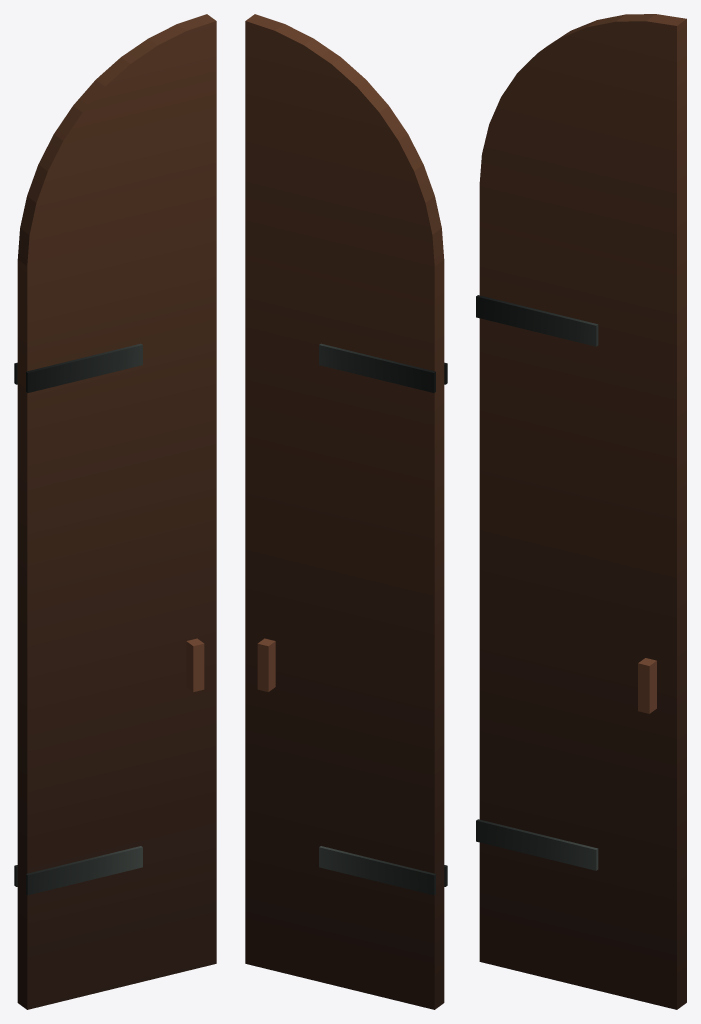
The model's file is SM_Door_Leaf_L.fbx.
3 renders of one model, left to right at view 1: azimuth 30°, elevation 25°; view 2: azimuth 150°, elevation 25°; view 3: azimuth 330°, elevation 25°, orthographic. The views are drawn at different scales.
Parts seen in each view (by area): view 1: SM_Door_Leaf_L; view 2: SM_Door_Leaf_L; view 3: SM_Door_Leaf_L.
Boxes of the visible parts, bbox=[...] form: SM_Door_Leaf_L: bbox=[14, 14, 216, 1009]; SM_Door_Leaf_L: bbox=[245, 14, 447, 1009]; SM_Door_Leaf_L: bbox=[476, 14, 686, 1009].
Bounding box in the file's own units: 0.695 × 3.28 × 0.15.
